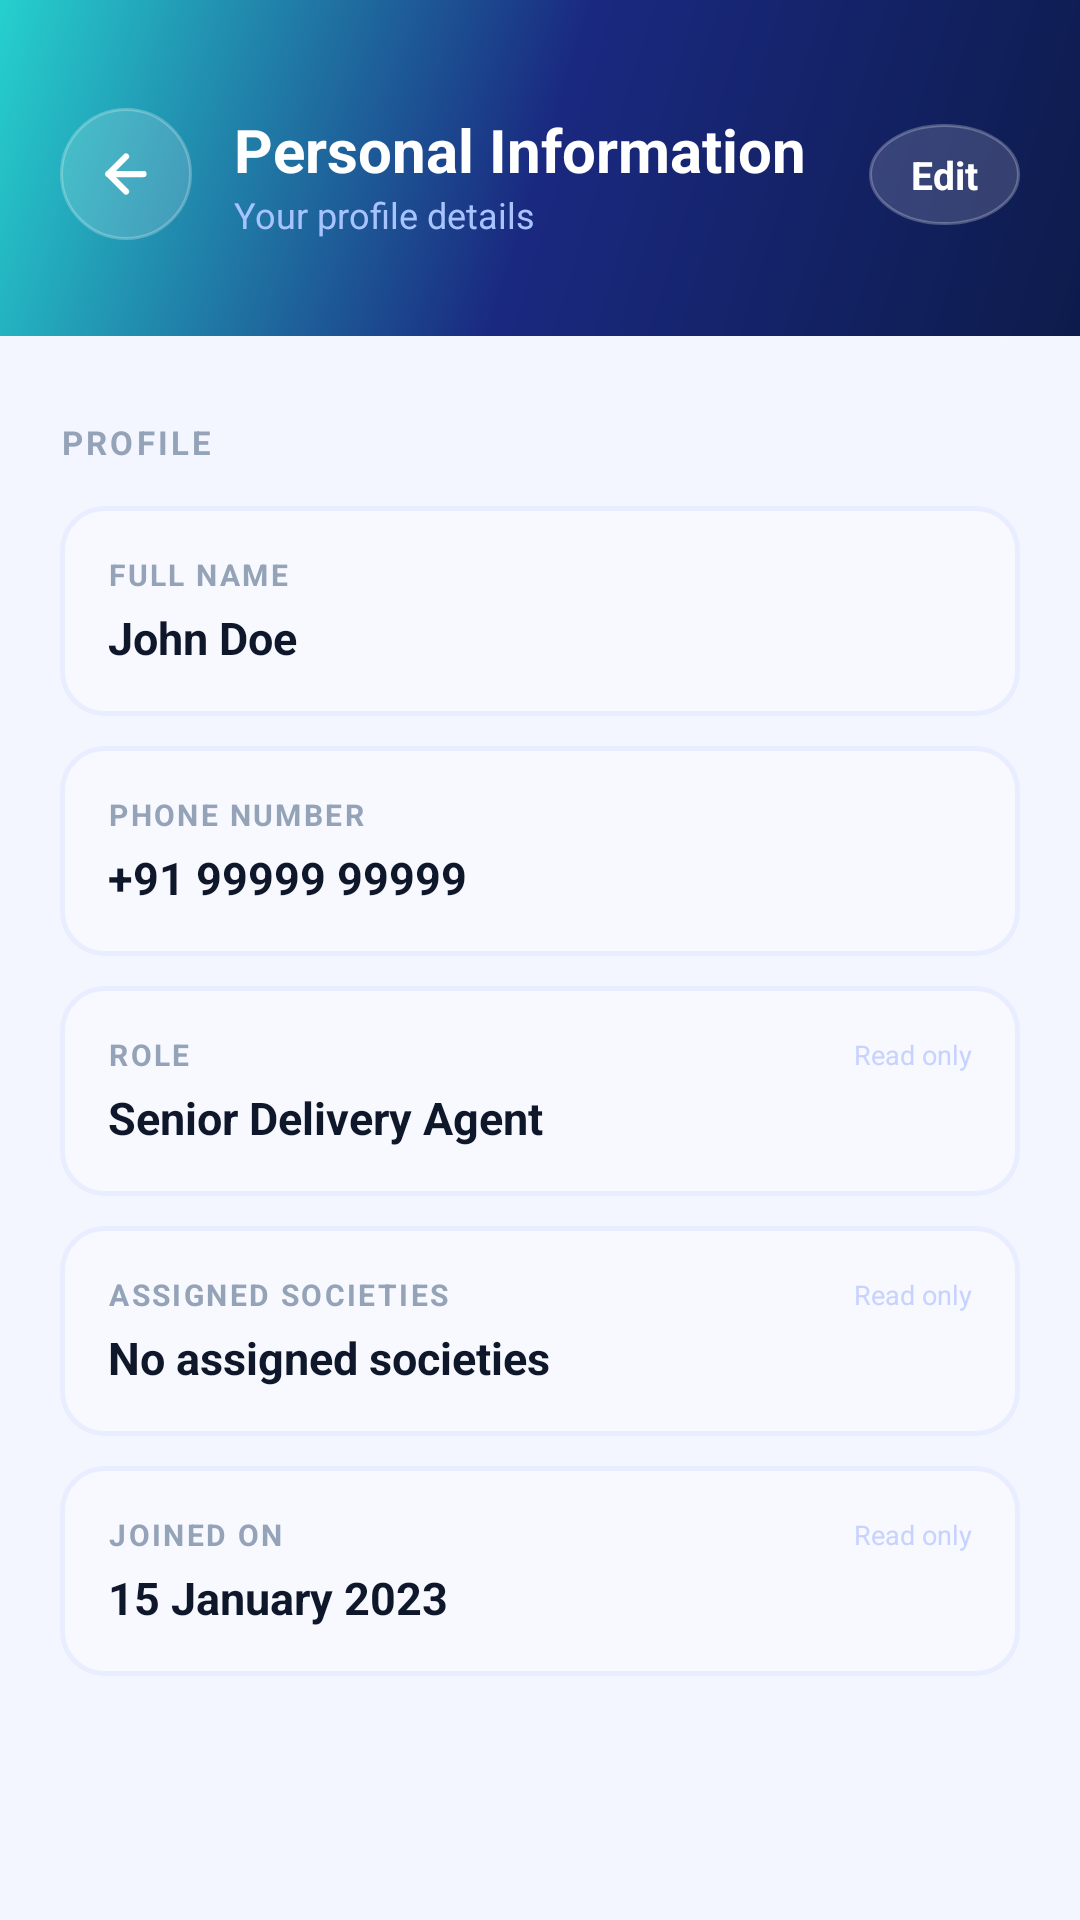

Point at icon controls on the screen. Image size 1080 × 1920, points as point (x, y).
back: point (126, 174)
